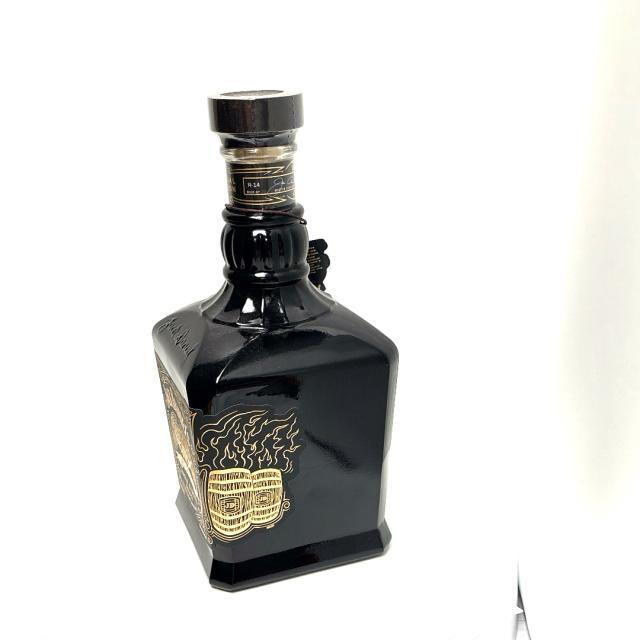JACK DANIELS SINGLE BARREL ERIC CHURCH 750ML: (136, 85, 408, 598)
